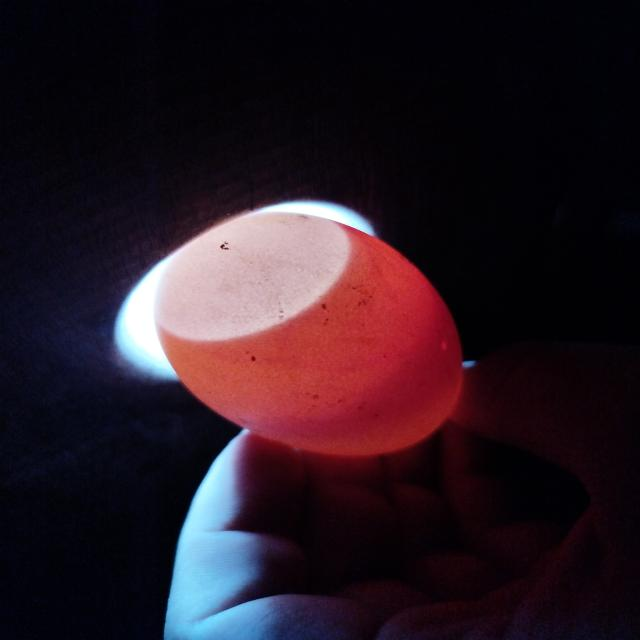Camara de Ar: (154, 211, 351, 341)
Gema Quebrada: (245, 303, 463, 454)
